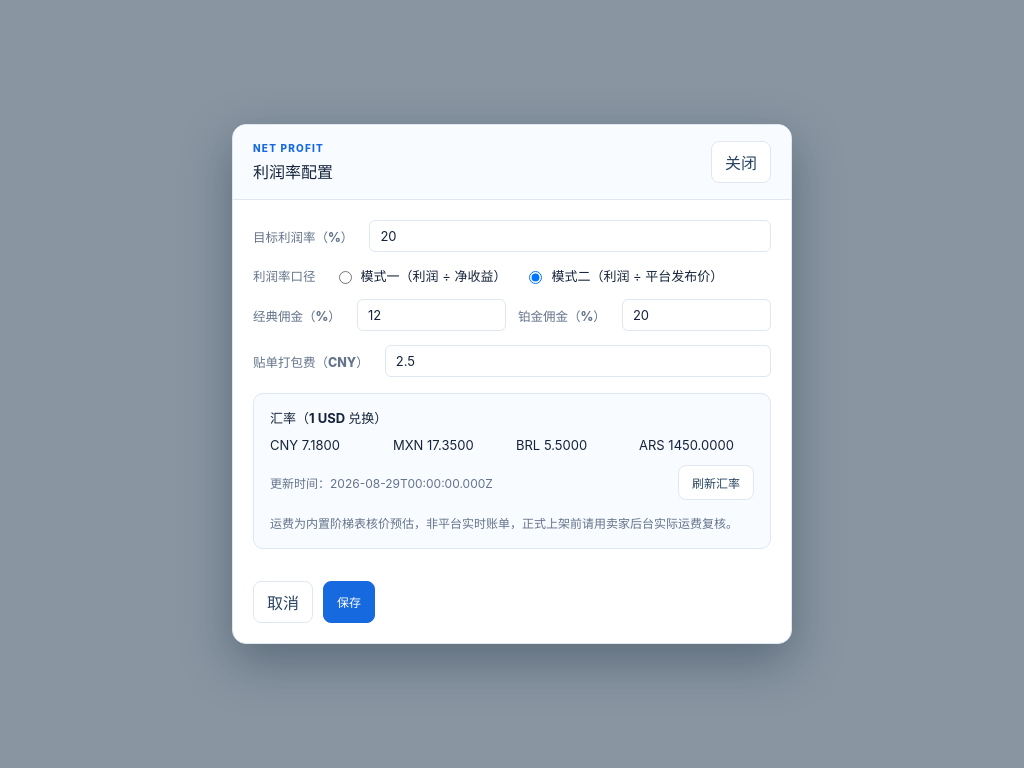
NetProfitConfigModal › refreshes the fx rates in place
Click the button "刷新汇率" at (716, 483), box left=678, top=465, right=754, bottom=500
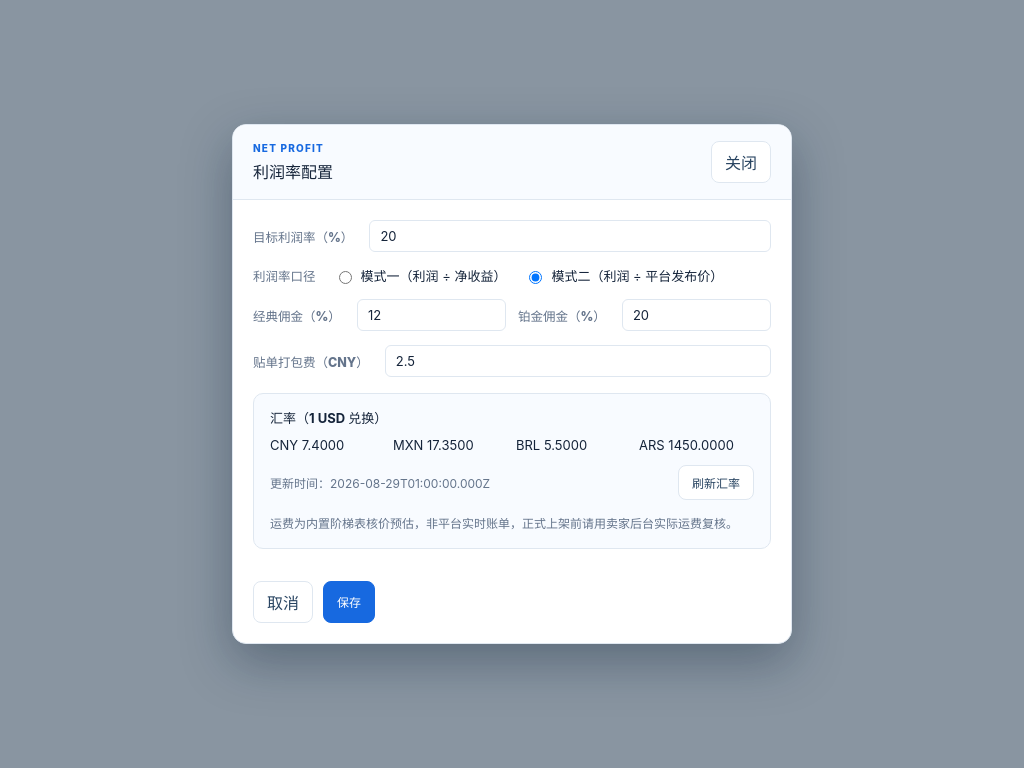
Check: the text "更新时间：2026-08-29T01:00:00.000Z 刷新汇率" is shown, box left=270, top=465, right=754, bottom=500
